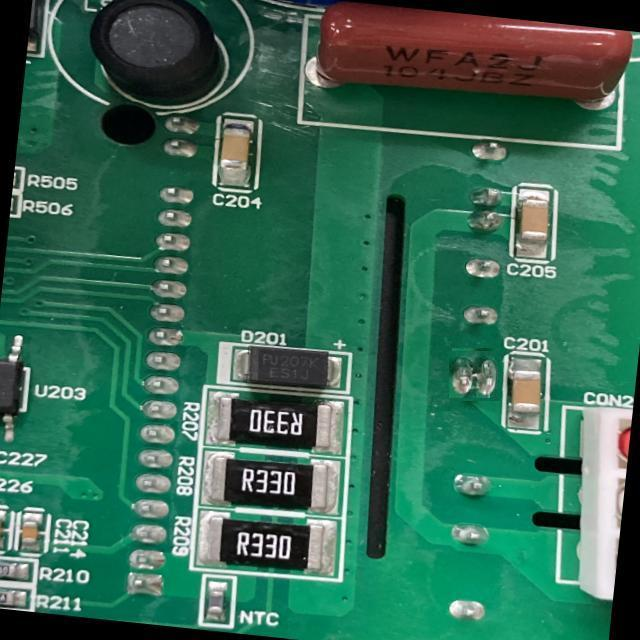damged: (451, 349, 501, 400)
